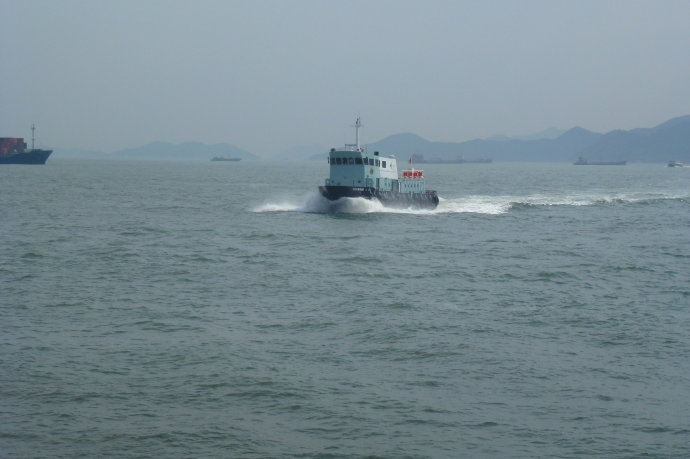Cargoship: (1, 132, 54, 166), (409, 151, 497, 167)
otherboat: (308, 118, 453, 214)
